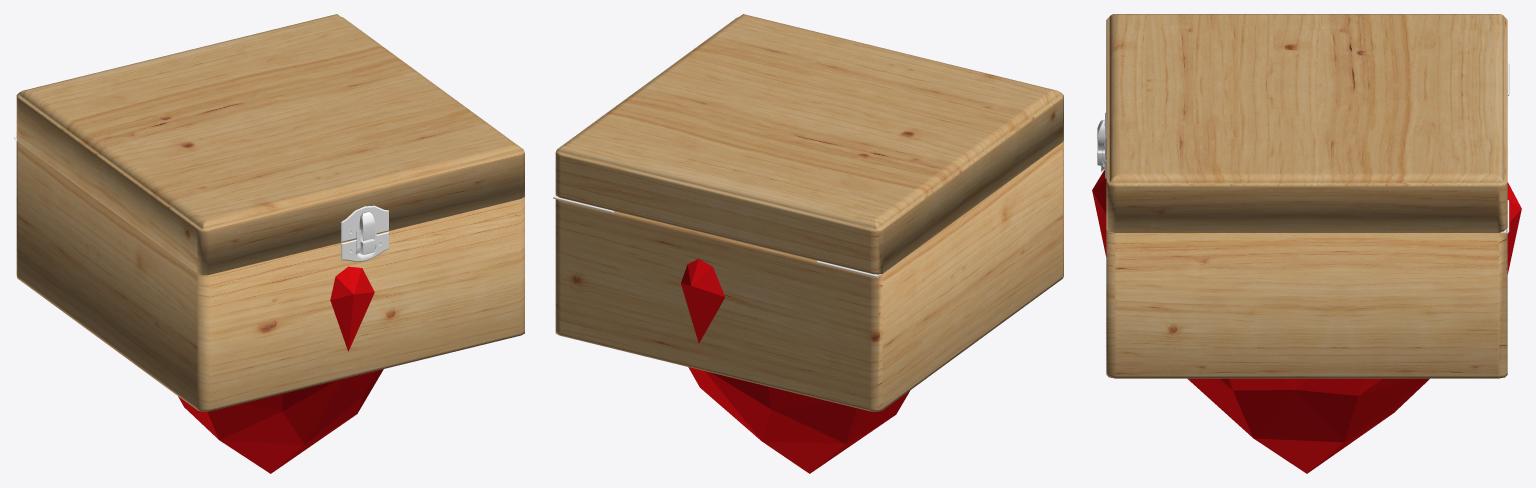
3 renders of one model, left to right at view 1: azimuth 30°, elevation 25°; view 2: azimuth 150°, elevation 25°; view 3: azimuth 270°, elevation 25°, orthographic. The views are drawn at different scales.
Visible parts, largest first — view 1: BoiteA, BoiteB, Cube.001, LockA, LockB; view 2: BoiteA, BoiteB, Cube.001; view 3: BoiteA, BoiteB, Cube.001.
Part boxes in pixels (x1,y1,x2,y2): BoiteA: [16, 14, 524, 275]; BoiteB: [16, 141, 524, 411]; Cube.001: [178, 266, 383, 473]; LockA: [341, 205, 388, 242]; LockB: [341, 232, 388, 261]; BoiteA: [555, 14, 1063, 274]; BoiteB: [555, 140, 1063, 411]; Cube.001: [681, 259, 910, 473]; BoiteA: [1106, 14, 1507, 232]; BoiteB: [1106, 230, 1507, 378]; Cube.001: [1092, 170, 1521, 473].
Size of the model in its own units: 2 by 2.09 by 2.14.
9 materials, 2 textured.
